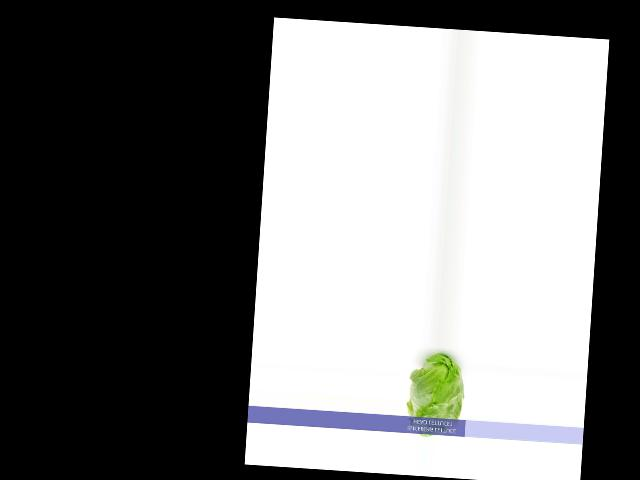lettuce: (404, 348, 464, 439)
